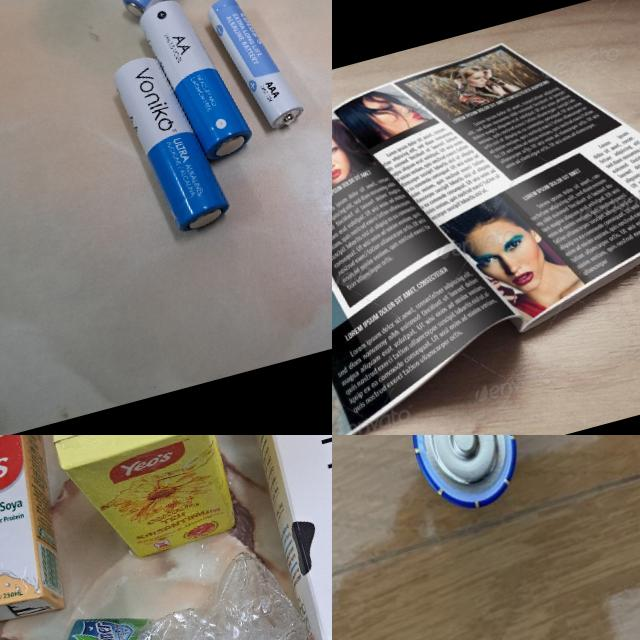bateria: (109, 46, 232, 242), (137, 0, 257, 168), (204, 0, 307, 139), (395, 435, 528, 518)
caixinha: (33, 435, 239, 572), (209, 435, 332, 640), (0, 435, 93, 637)
garrafa plástica: (0, 539, 330, 640)
papel: (332, 0, 640, 435)
